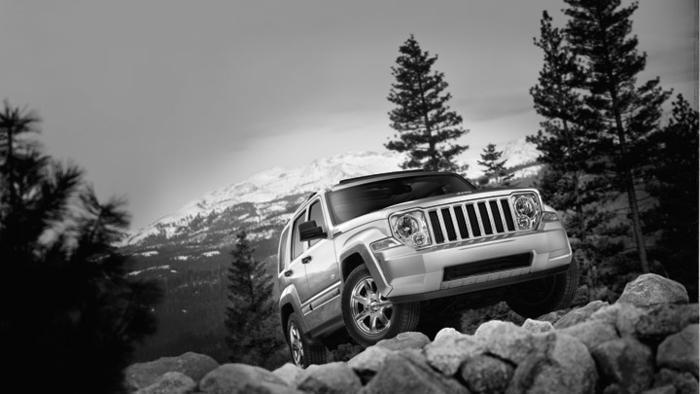car: (277, 171, 578, 369)
